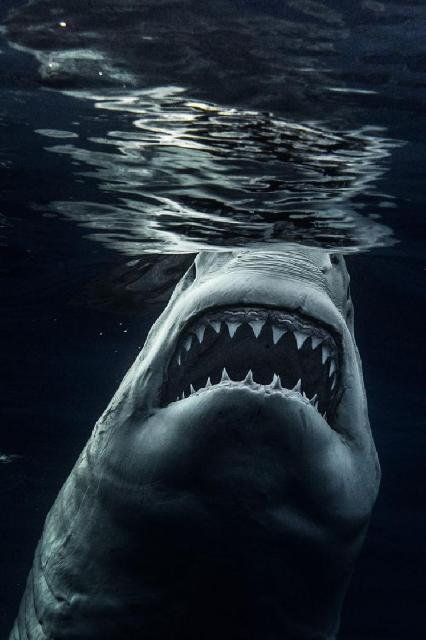Mulut: (98, 256, 384, 484)
